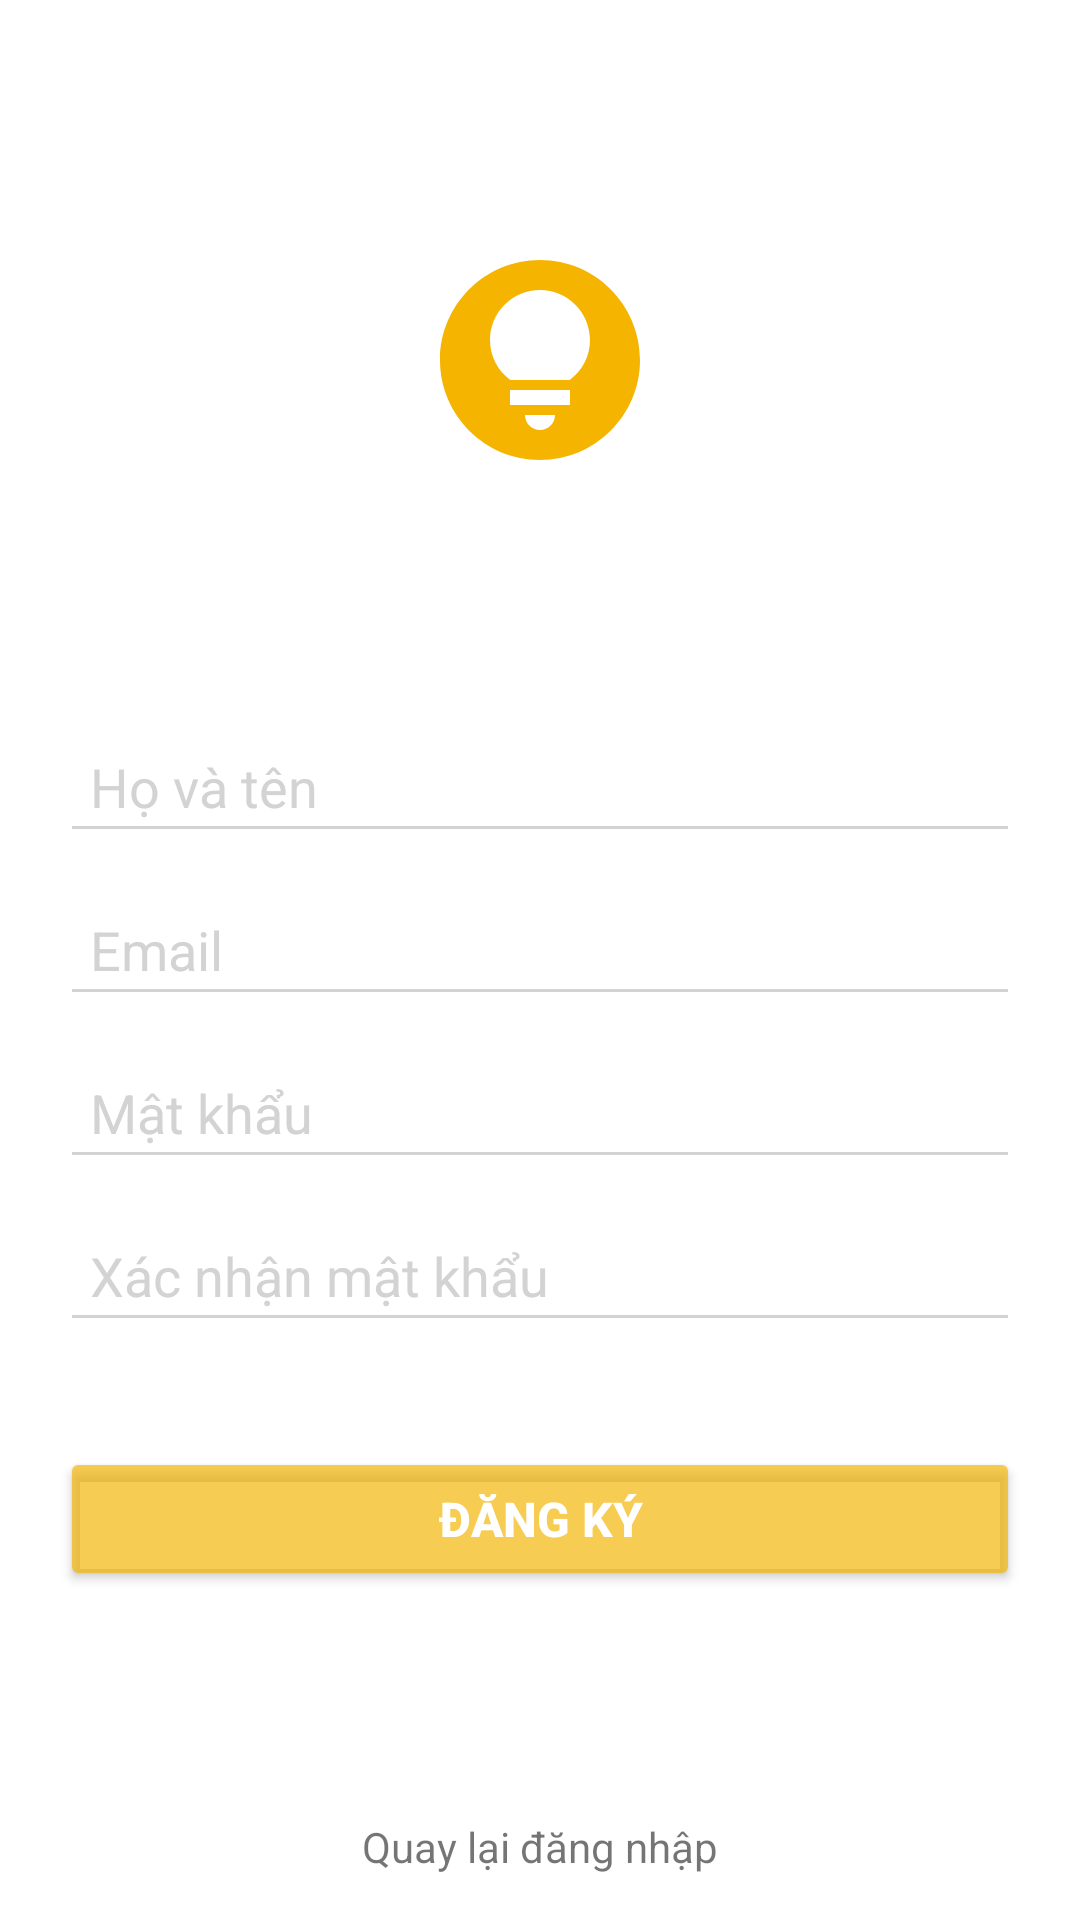

Point at icon controls on the screen. Image size 1080px×1920px, points as point (x, y).
lightbulb circle: point (539, 360)
